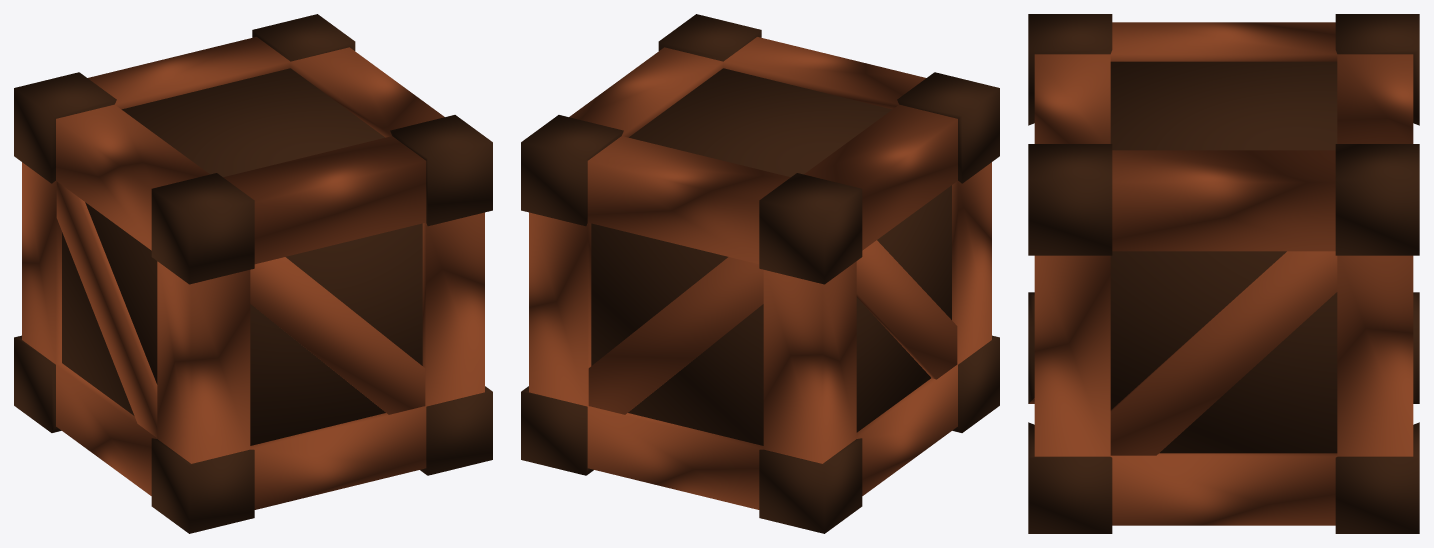
Rendered from WoodenBox.fbx.
The picture shows the model from 3 angles, left to right: view 1: azimuth 30°, elevation 25°; view 2: azimuth 150°, elevation 25°; view 3: azimuth 270°, elevation 25°; orthographic projection. The views are drawn at different scales.
Parts seen in each view (by area): view 1: WoddenBox; view 2: WoddenBox; view 3: WoddenBox.
Boxes of the visible parts, x1,y1,x2,y2 form: WoddenBox: (14,14,492,533); WoddenBox: (521,14,999,533); WoddenBox: (1028,14,1419,533).
Bounding box in the file's own units: 1.08 × 1.08 × 1.08.
